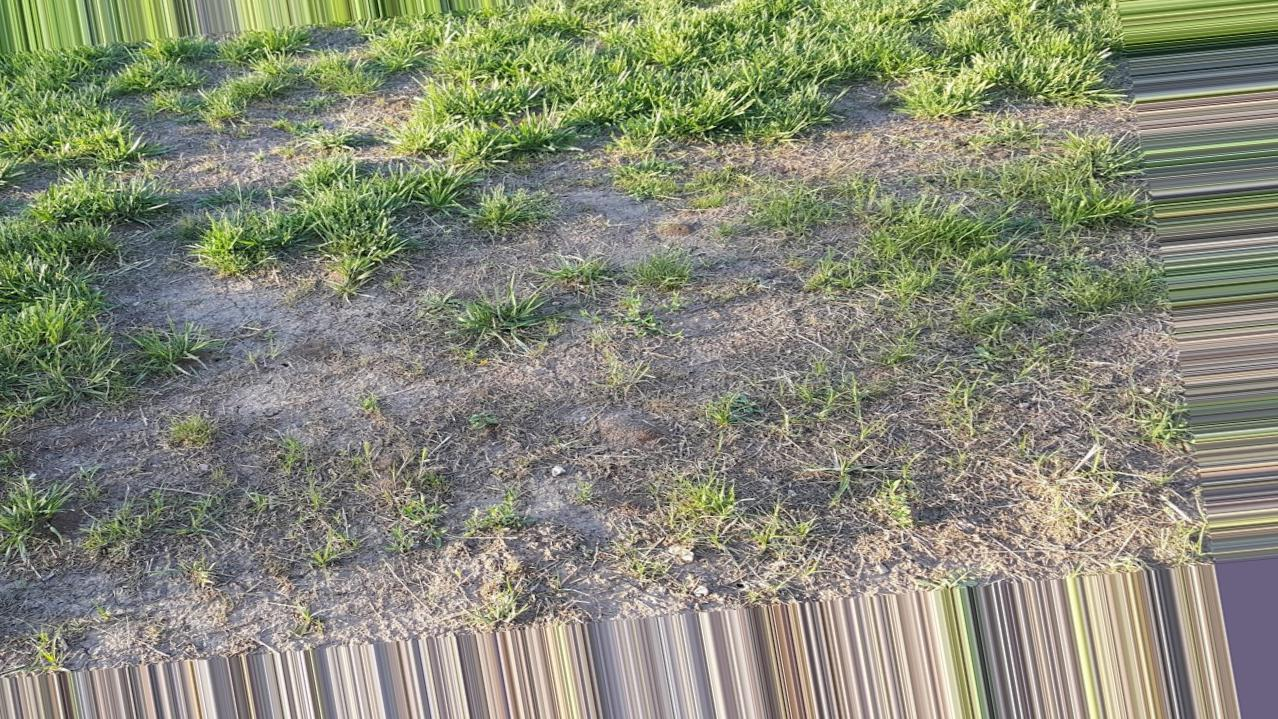patch: (145, 163, 1030, 574)
